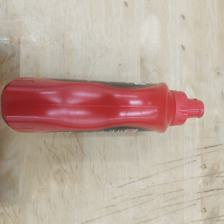Tuong: (1, 75, 204, 136)
